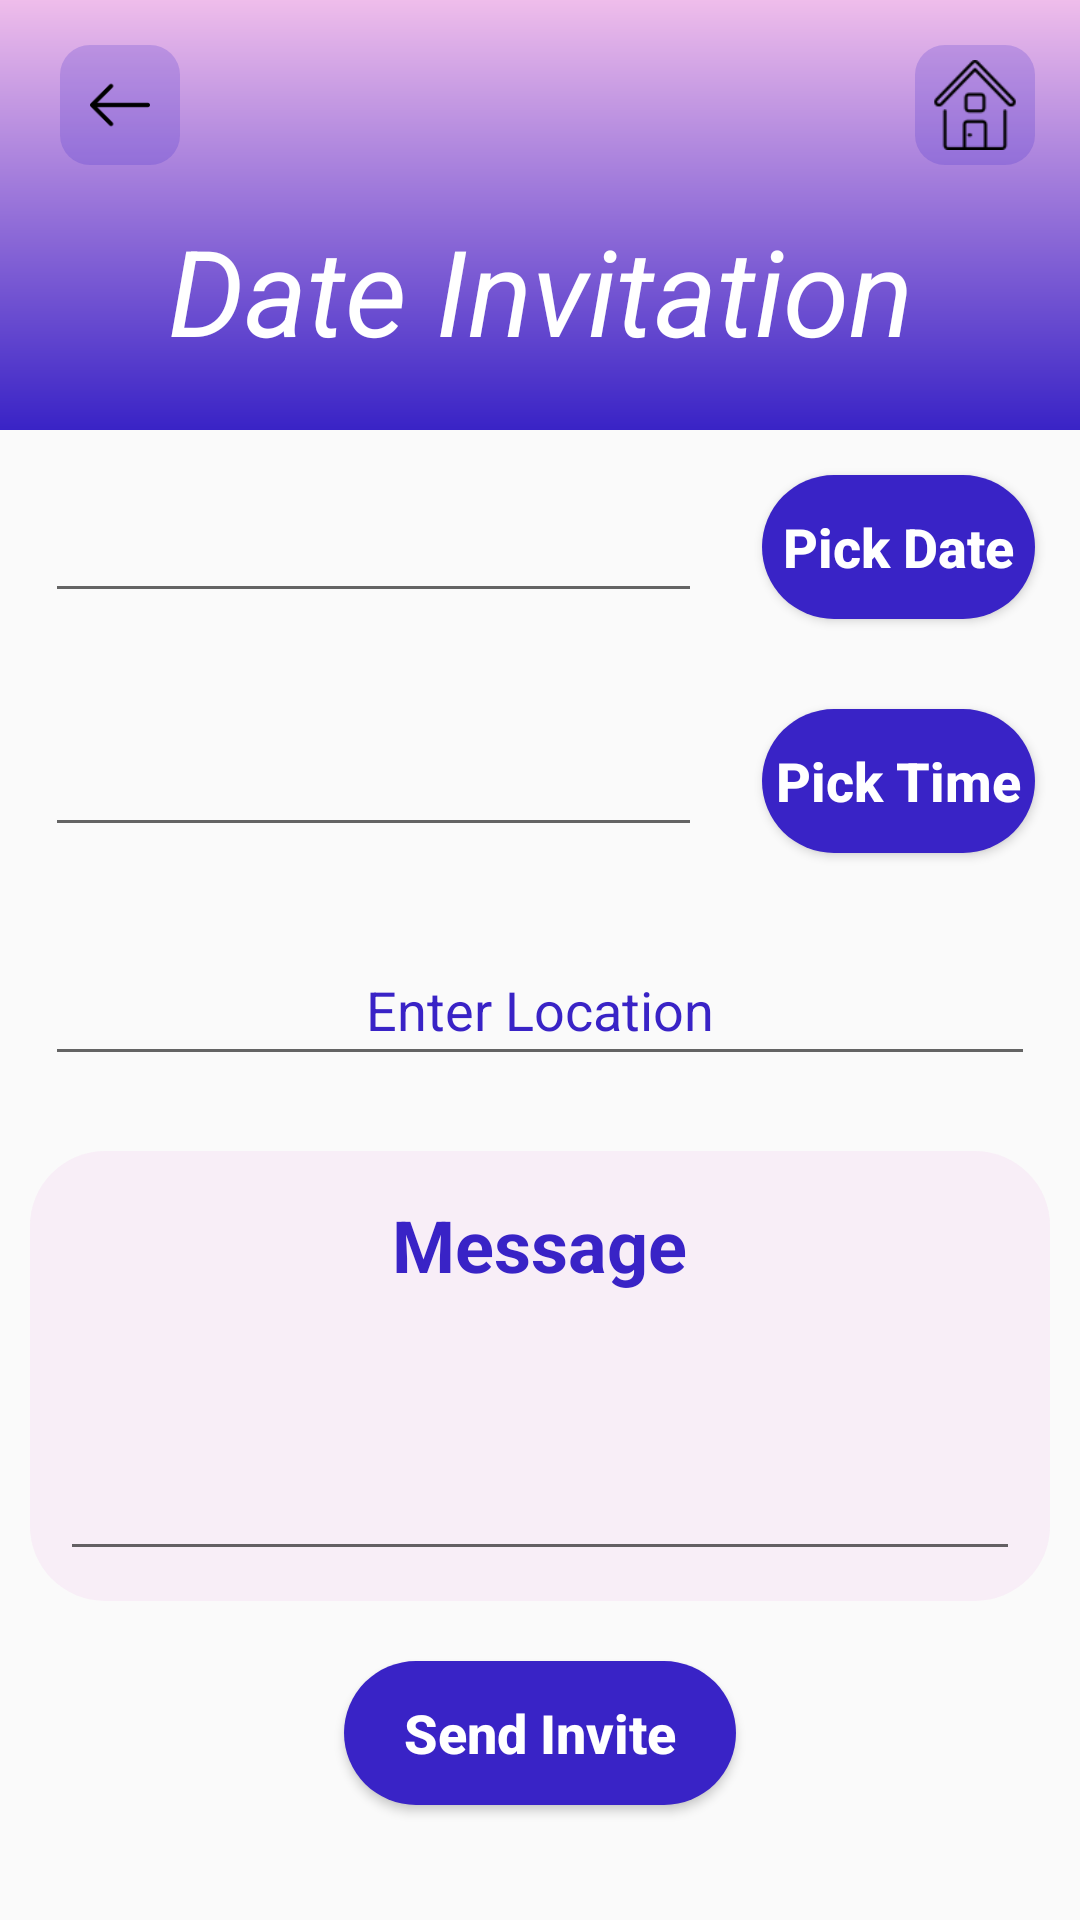

Screen size 1080×1920. Icon name, then its center in pixels as point (x, y):
back: point (120, 105)
home: point (975, 105)
